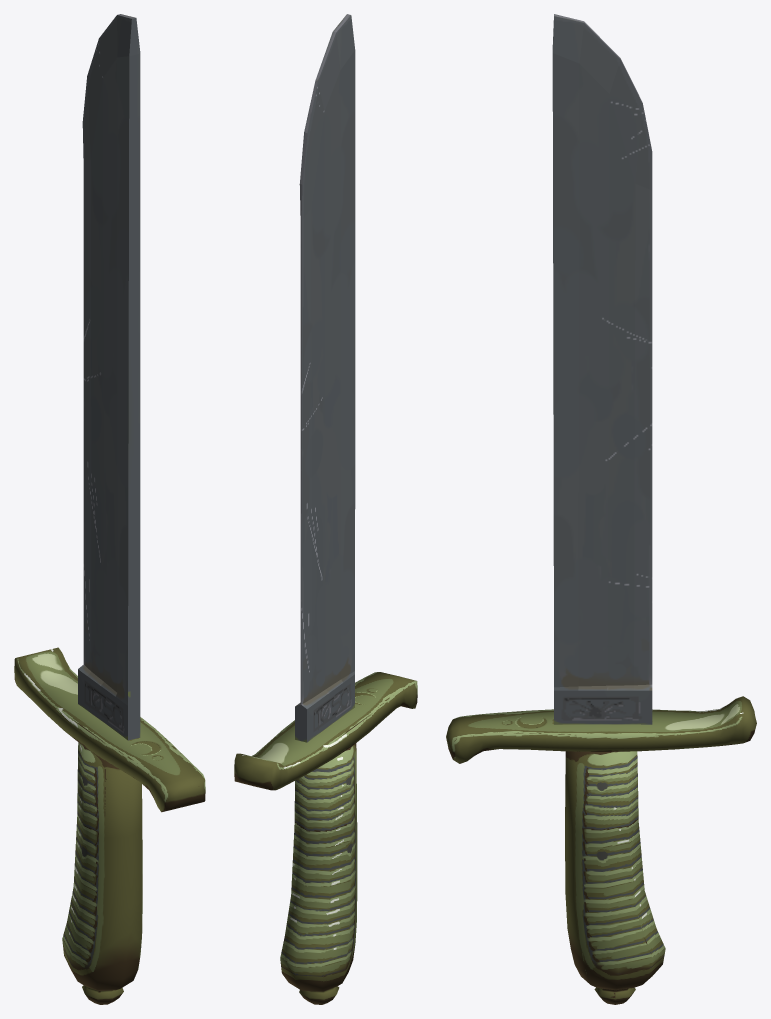
The model's file is short_sword.glb.
The picture shows the model from 3 angles, left to right: view 1: azimuth 30°, elevation 25°; view 2: azimuth 150°, elevation 25°; view 3: azimuth 270°, elevation 25°; orthographic projection. The views are drawn at different scales.
Parts seen in each view (by area): view 1: Cube.002; view 2: Cube.002; view 3: Cube.002.
Boxes of the visible parts, <box> form: Cube.002: <box>14,14,205,1004</box>; Cube.002: <box>234,14,417,1004</box>; Cube.002: <box>446,14,756,1004</box>.
Bounding box in the file's own units: 0.0441 × 0.7147 × 0.204.
Materials: 1 (1 with a texture image).
